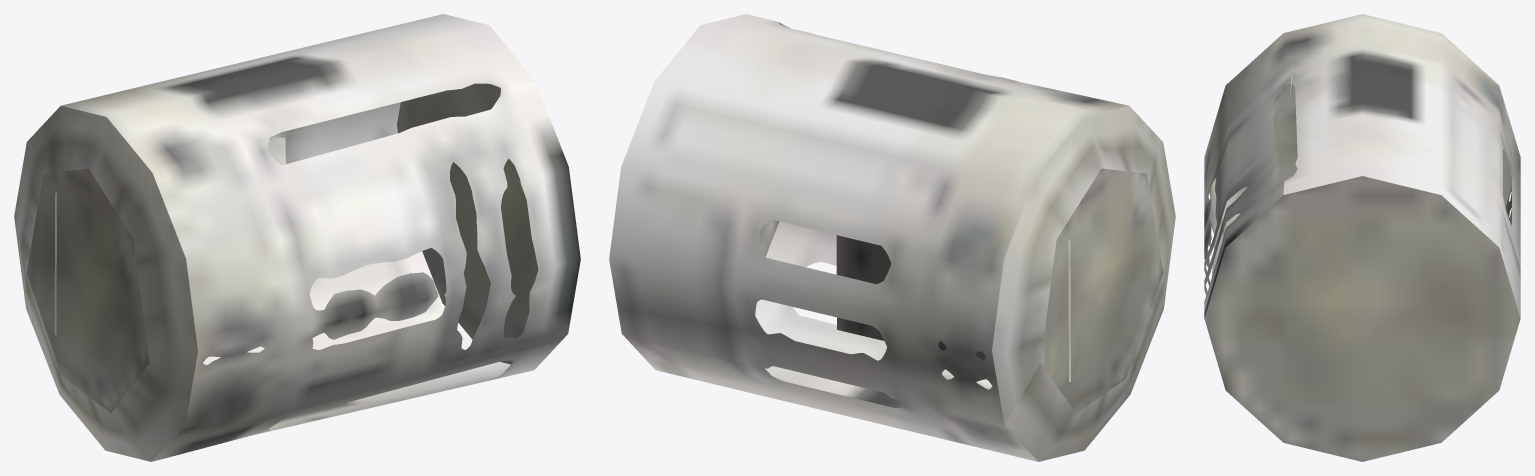
Rendered from poi_r3_torso_l2.fbx.
The picture shows the model from 3 angles, left to right: view 1: azimuth 30°, elevation 25°; view 2: azimuth 150°, elevation 25°; view 3: azimuth 270°, elevation 25°; orthographic projection. The views are drawn at different scales.
Visible parts, largest first — view 1: mesh_node; view 2: mesh_node; view 3: mesh_node.
Part boxes in pixels (x1,y1,x2,y2): mesh_node: [14, 14, 580, 461]; mesh_node: [609, 14, 1175, 461]; mesh_node: [1204, 14, 1520, 461].
Bounding box in the file's own units: 0.5564 × 0.4425 × 0.4403.
1 material, 1 textured.
